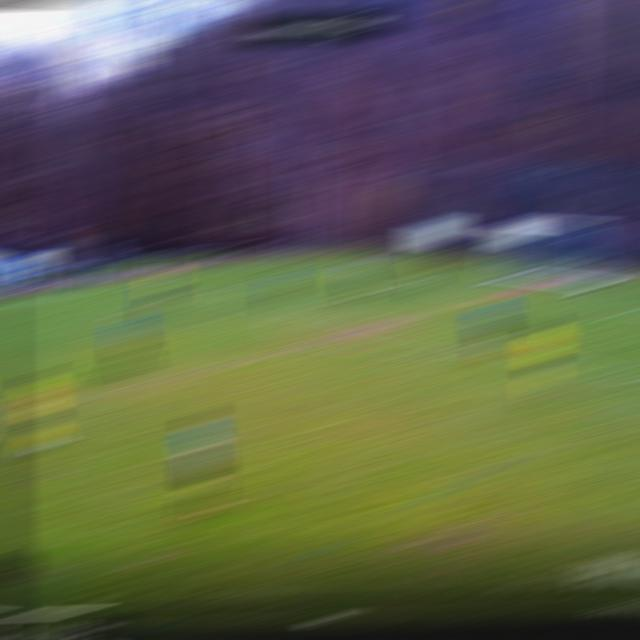bigarea_top_inner: (189, 285, 214, 298)
corner: (278, 256, 306, 263)
smallarea_bottom_inner: (603, 308, 632, 320)
smallarea_top_inner: (387, 277, 412, 291)
smallarea_top_outter: (432, 270, 462, 280)
top_arc_area_intersection: (276, 302, 302, 312)
